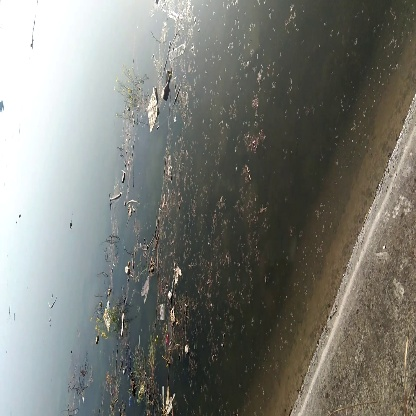plastic-garbage: (137, 83, 166, 133)
